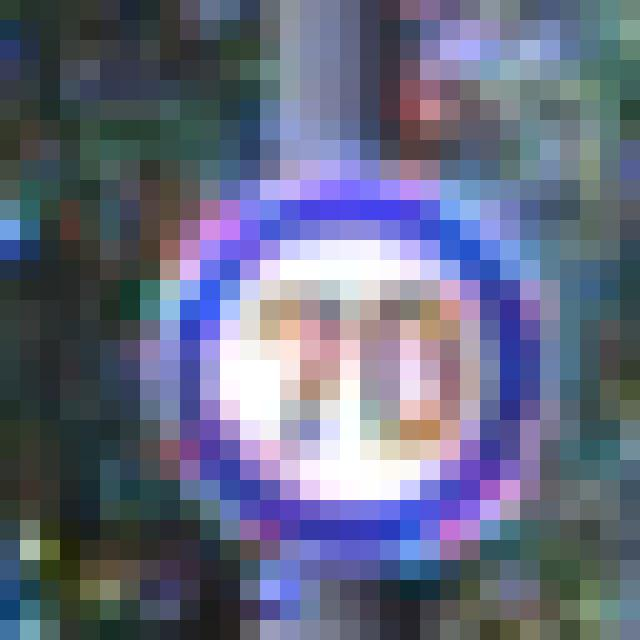SPEED LIMIT 70: (169, 209, 545, 544)
